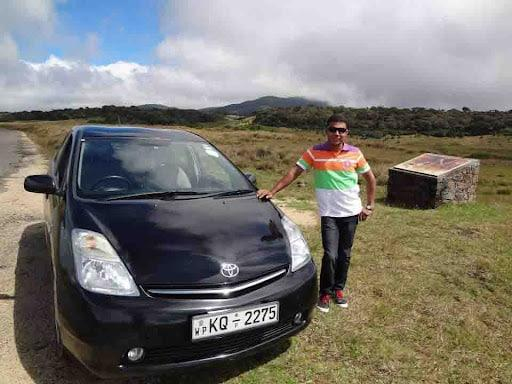license-plate: (191, 302, 277, 337)
